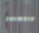No entry: (3, 0, 36, 31)
